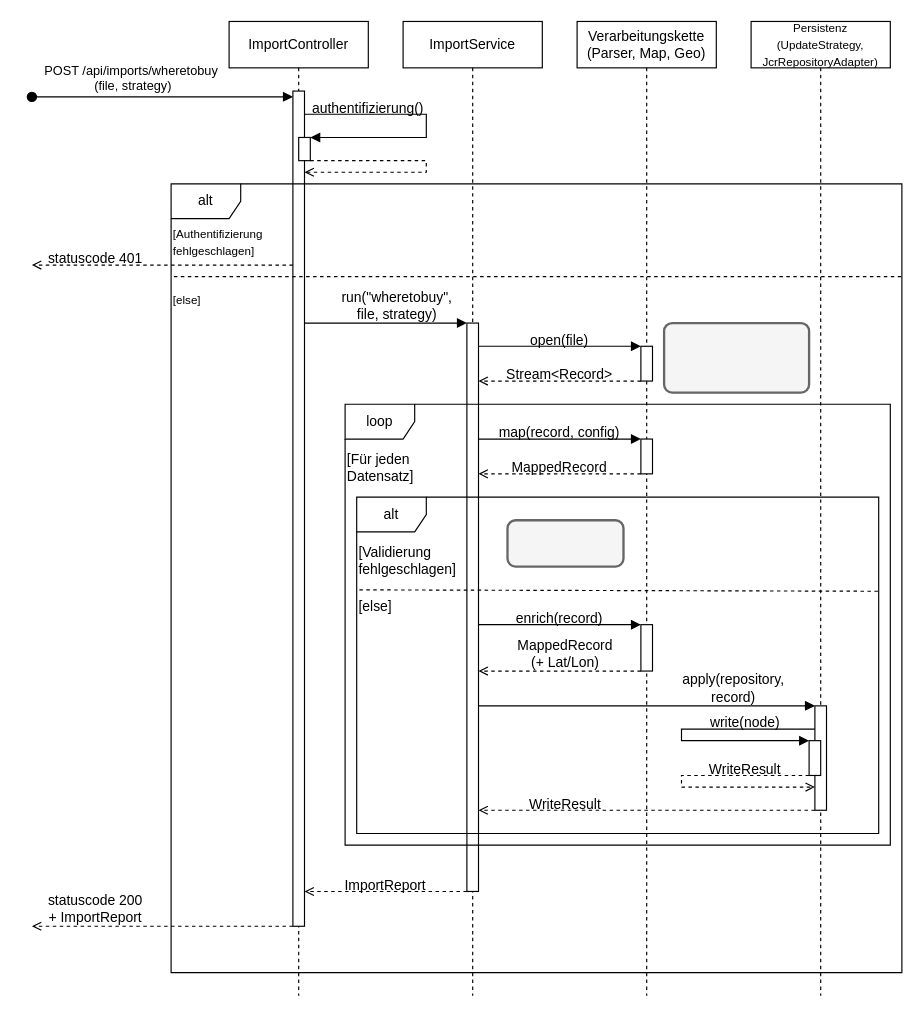
Some shapes in this 923 by 1016 pixel diagram are drawn without their labels. The centre of each missing label's shape, as x and y in pixels:
"Datensatz überspringen" goes at pixel 565 543.
"Records werden pro Iteration aus dem Stream gezogen und dabei geparst" goes at pixel 736 357.
